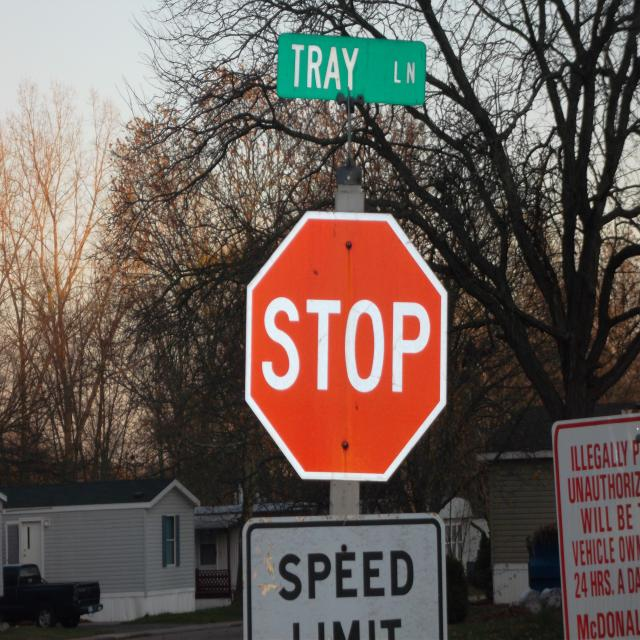regulatory: (231, 511, 447, 640)
stop: (245, 208, 452, 486)
